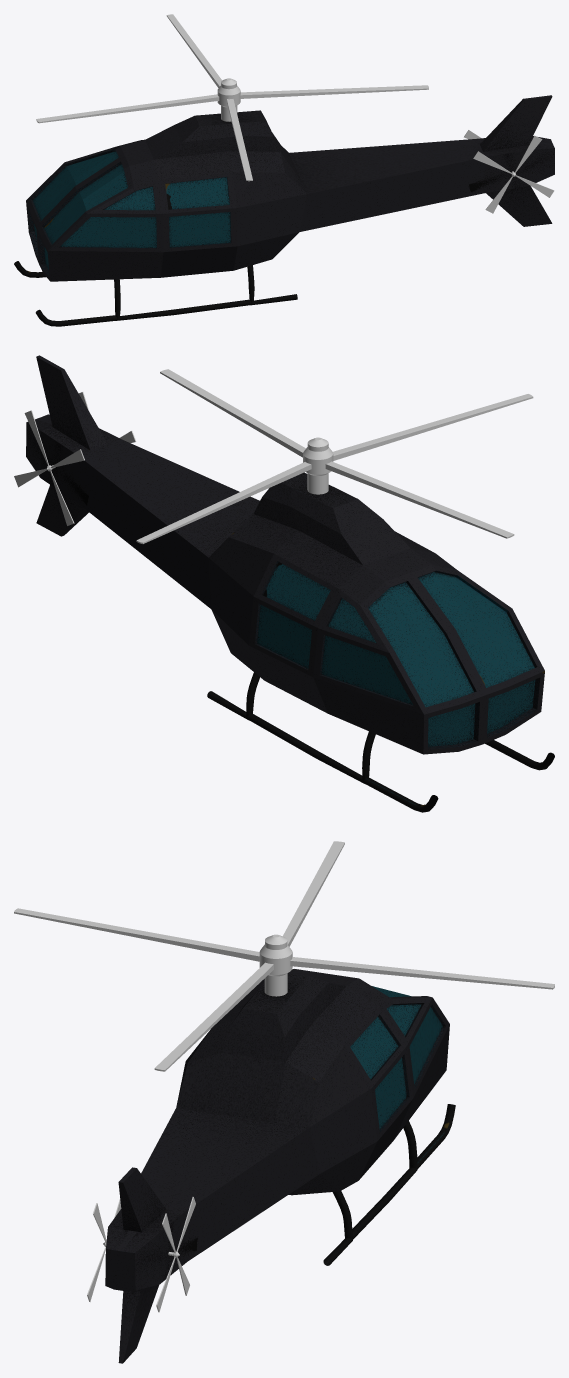
File: anim_000163.obj
3 views of the same model, one above another, from view 1: azimuth 30°, elevation 25°; view 2: azimuth 150°, elevation 25°; view 3: azimuth 270°, elevation 25° (orthographic). The views are drawn at different scales.
Parts seen in each view (by area): view 1: Helicopter.007_Cylinder.008, Helicopter.001_Cylinder.001, Helicopter.003_Cylinder.004; view 2: Helicopter.007_Cylinder.008, Helicopter.001_Cylinder.001, Helicopter.004_Cylinder.005; view 3: Helicopter.007_Cylinder.008, Helicopter.001_Cylinder.001, Helicopter.004_Cylinder.005.
Part boxes in pixels (left/top/right/bottom): Helicopter.007_Cylinder.008: left=14, top=95, right=554, bottom=326; Helicopter.001_Cylinder.001: left=36, top=14, right=428, bottom=181; Helicopter.003_Cylinder.004: left=473, top=135, right=554, bottom=213; Helicopter.007_Cylinder.008: left=26, top=355, right=554, bottom=812; Helicopter.001_Cylinder.001: left=136, top=369, right=533, bottom=543; Helicopter.004_Cylinder.005: left=14, top=410, right=84, bottom=525; Helicopter.007_Cylinder.008: left=105, top=969, right=455, bottom=1363; Helicopter.001_Cylinder.001: left=14, top=841, right=554, bottom=1071; Helicopter.004_Cylinder.005: left=156, top=1197, right=195, bottom=1312.
Bounding box in the file's own units: 7.42 × 3.21 × 5.3.
